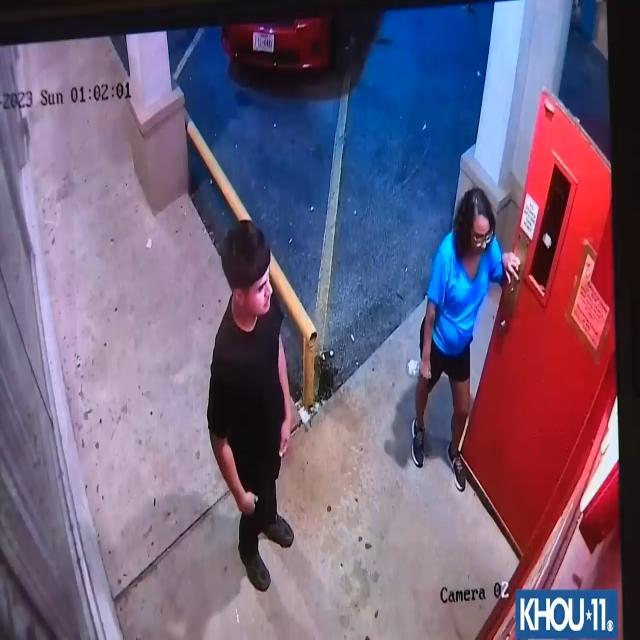Person: (204, 217, 320, 596), (410, 176, 513, 501)
